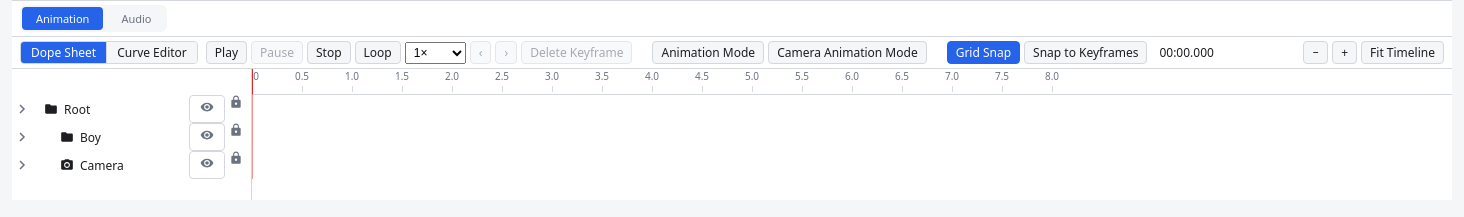
Test: TimelinePanel property subtracks › collapses the subtracks again on a second chevron click
Expected: the button "Boy" is shown, [32,123,251,151]
Click the button named "Toggle subtracks of Boy": (22, 137) [12,123,32,151]
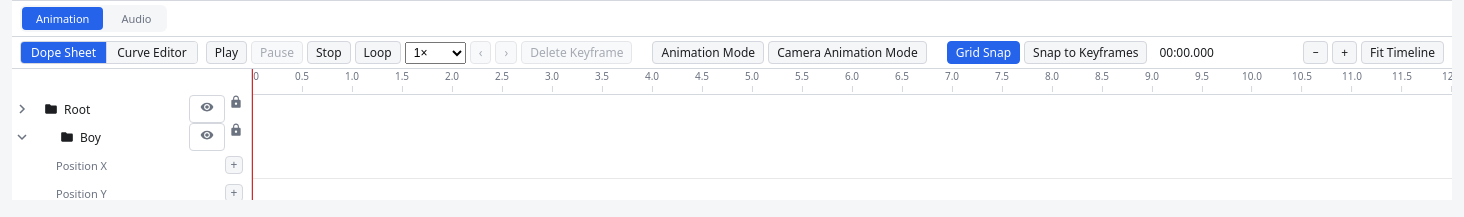
Expected: the text "Position X" is shown, [56,158,107,172]
Click the button named "Toggle subtracks of Boy": (22, 137) [12,123,32,151]
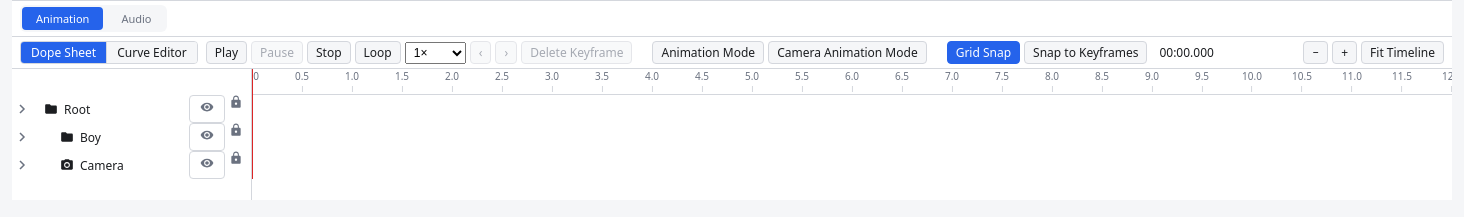
Expected: the text "Position X" is gone
